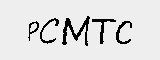М: (59, 15, 92, 49)
Р: (25, 19, 39, 46)
С: (115, 19, 138, 46), (38, 18, 59, 46)
Т: (91, 17, 117, 49)
